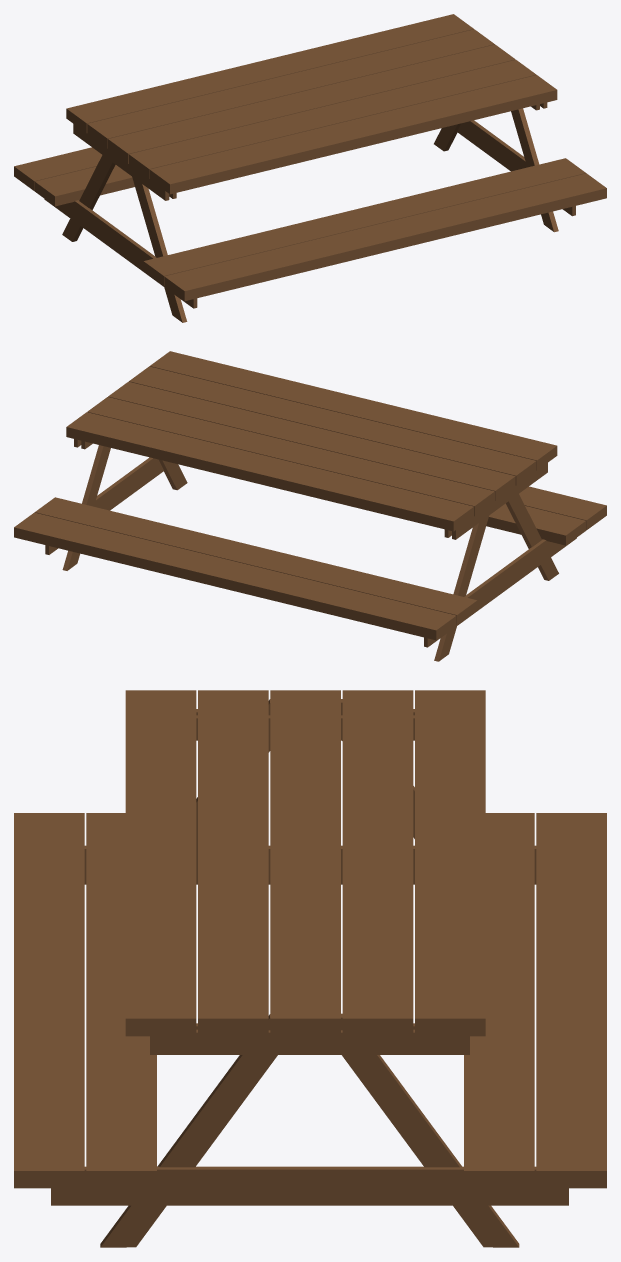
File: picnictable.fbx
3 views of the same model, one above another, from view 1: azimuth 30°, elevation 25°; view 2: azimuth 150°, elevation 25°; view 3: azimuth 270°, elevation 25° (orthographic). The views are drawn at different scales.
Visible parts, largest first — view 1: Cube, Cube.002, Cube.001, Cube.004, Cube.009, Cube.003, Cube.005, Cube.006, Cube.012, Cube.007; view 2: Cube, Cube.001, Cube.002, Cube.004, Cube.009, Cube.005, Cube.003, Cube.007, Cube.012, Cube.006; view 3: Cube, Cube.001, Cube.002, Cube.009, Cube.008, Cube.006, Cube.007.
Boxes of the visible parts, left/top/right/bottom form: Cube: left=66, top=14, right=557, bottom=194; Cube.002: left=143, top=158, right=606, bottom=301; Cube.001: left=14, top=147, right=134, bottom=206; Cube.004: left=44, top=199, right=197, bottom=308; Cube.009: left=457, top=120, right=575, bottom=216; Cube.003: left=132, top=177, right=187, bottom=322; Cube.005: left=62, top=155, right=115, bottom=241; Cube.006: left=511, top=108, right=558, bottom=232; Cube.012: left=73, top=124, right=169, bottom=200; Cube.007: left=434, top=123, right=460, bottom=151; Cube: left=66, top=351, right=557, bottom=531; Cube.001: left=14, top=497, right=477, bottom=640; Cube.002: left=486, top=486, right=606, bottom=545; Cube.004: left=424, top=538, right=576, bottom=647; Cube.009: left=45, top=457, right=163, bottom=554; Cube.005: left=434, top=516, right=488, bottom=661; Cube.003: left=506, top=494, right=558, bottom=580; Cube.007: left=62, top=445, right=110, bottom=570; Cube.012: left=452, top=463, right=547, bottom=539; Cube.006: left=159, top=459, right=187, bottom=490; Cube: left=125, top=690, right=485, bottom=1036; Cube.001: left=464, top=813, right=606, bottom=1188; Cube.002: left=14, top=813, right=156, bottom=1188; Cube.009: left=51, top=1166, right=568, bottom=1205; Cube.008: left=150, top=1029, right=469, bottom=1054; Cube.006: left=100, top=1014, right=277, bottom=1247; Cube.007: left=341, top=1013, right=519, bottom=1247.
Size of the model in its own units: 1117 by 340 by 782.
